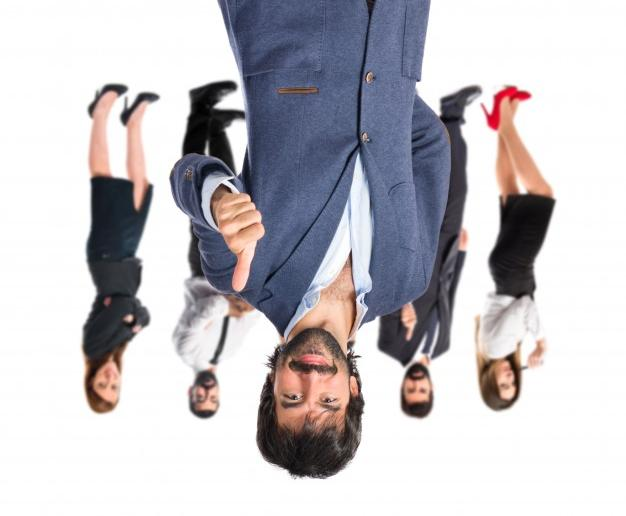thumbsdown: (216, 192, 265, 294)
